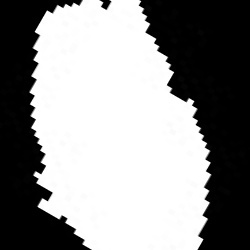spot: (29, 1, 210, 250)
